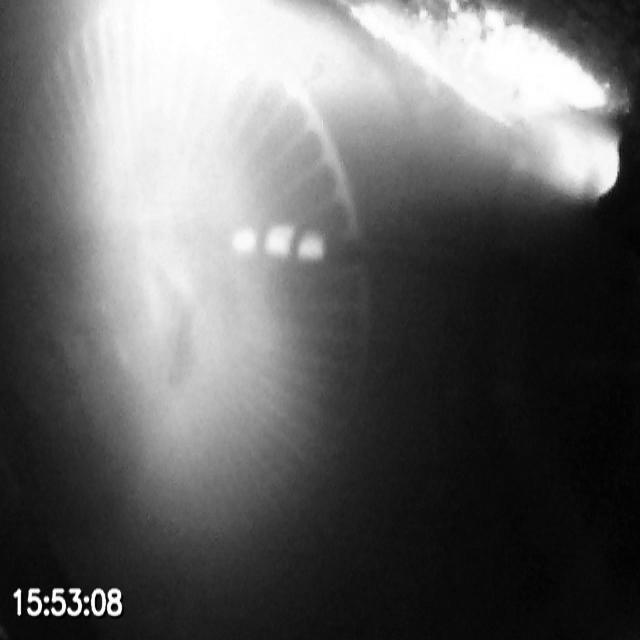white-dots: (230, 222, 328, 264)
